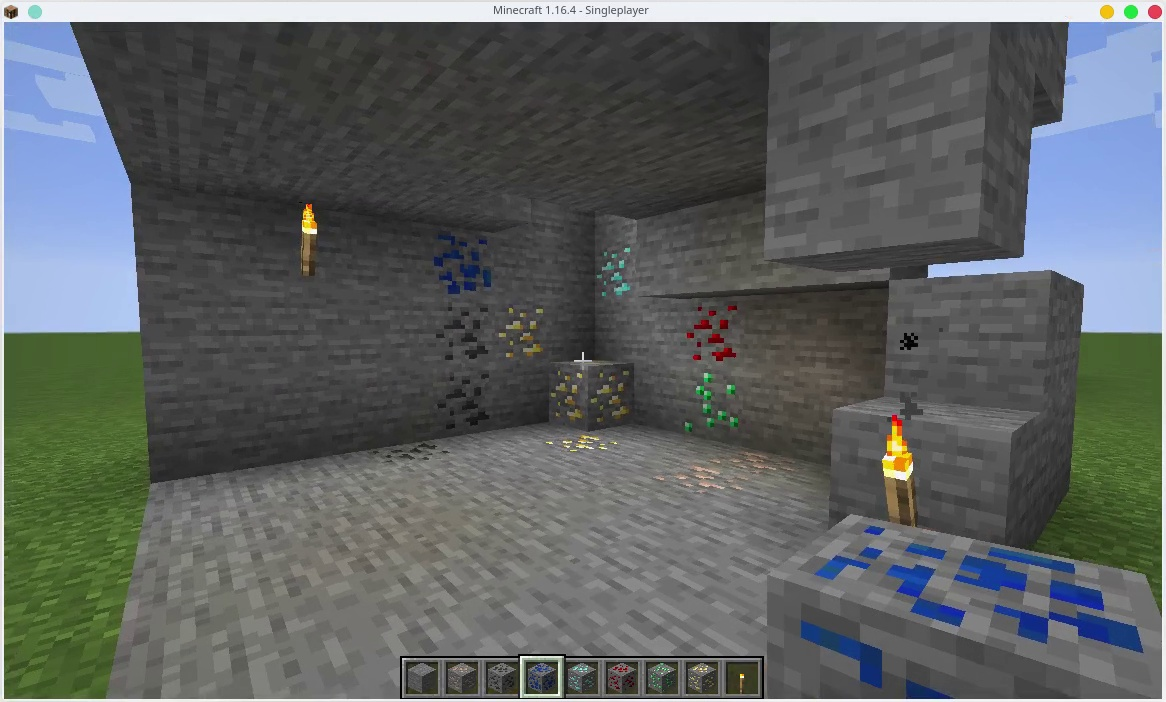gold: (552, 365, 629, 423), (492, 302, 550, 358), (544, 433, 631, 461), (685, 662, 718, 693)
